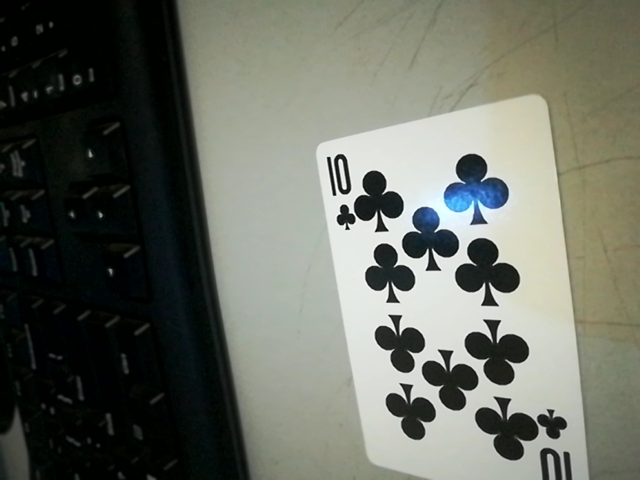mh 10: (312, 142, 360, 230)
